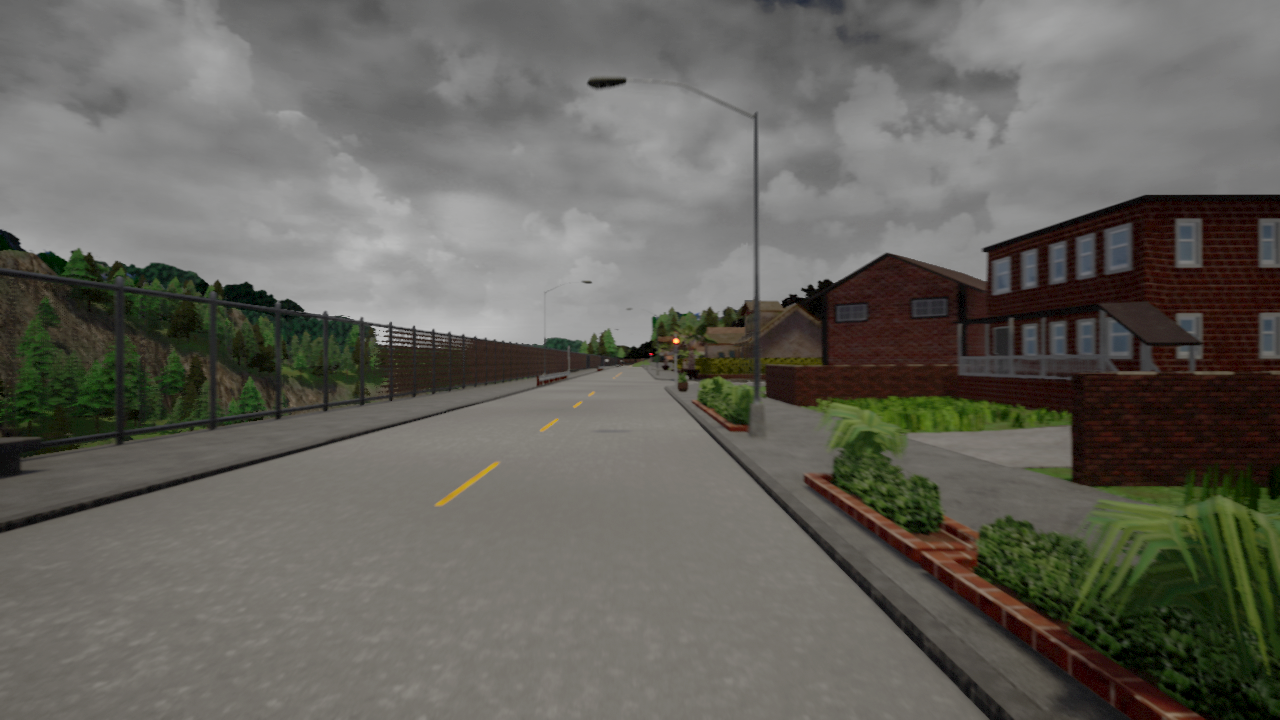red: (672, 337, 679, 355)
